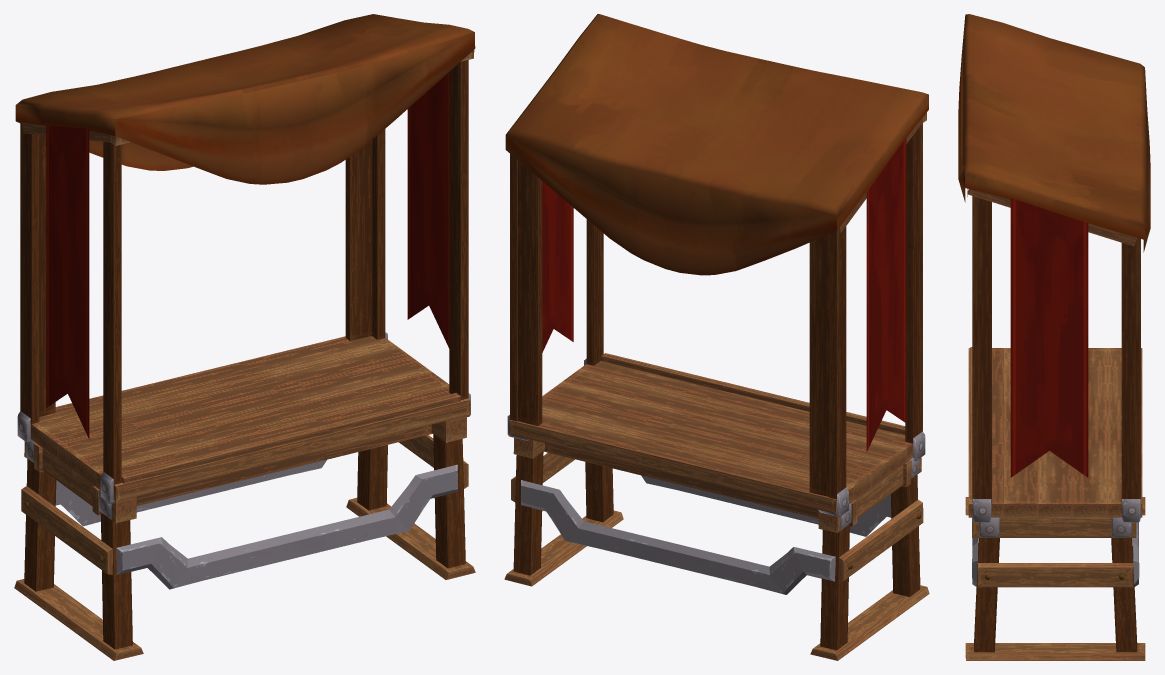
The model's file is Stall_Empty.gltf.
The picture shows the model from 3 angles, left to right: view 1: azimuth 30°, elevation 25°; view 2: azimuth 150°, elevation 25°; view 3: azimuth 270°, elevation 25°; orthographic projection. The views are drawn at different scales.
Parts seen in each view (by area): view 1: Stall_Empty; view 2: Stall_Empty; view 3: Stall_Empty.
Boxes of the visible parts, x1,y1,x2,y2 form: Stall_Empty: [14, 14, 475, 660]; Stall_Empty: [504, 14, 929, 660]; Stall_Empty: [958, 14, 1150, 660].
Size of the model in its own units: 1.84 by 2.63 by 0.9323.
Materials: 3 (3 with a texture image).
